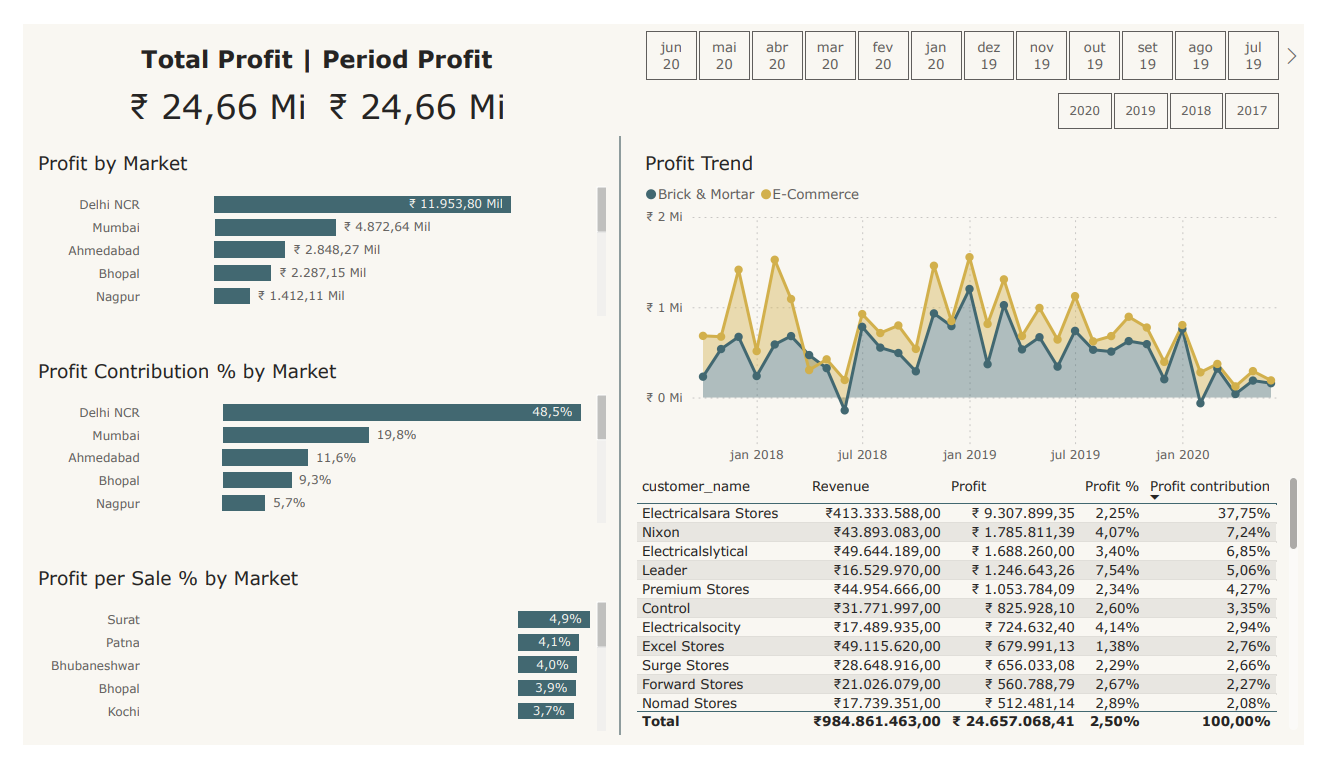

The page's visual inventory and layout, read from the dashboard file:
{"tool":"powerbi","page":{"name":"Profit","canvas":[1280,720],"ordinal":1},"visuals":[{"type":"card","fields":{"Values":["Medidas Base.Profit"]},"box":[294,55,199,55],"z":0,"group":"g1"},{"type":"slicer","fields":{"Values":["sales date.date.Variation.Hierarquia de datas.Ano"]},"box":[1008.6,62.2,271.4,49.6],"z":0},{"type":"shape","box":[587,111.7,20.4,599.4],"z":1000},{"type":"textbox","box":[95,15,398,45],"z":2000,"group":"g1"},{"type":"slicer","fields":{"Values":["sales date.cy_date"]},"box":[597,0,683,63],"z":2000},{"type":"barChart","title":"Profit Contribution % by Market","fields":{"Category":["sales markets.markets_name"],"Y":["Medidas Base.Profit contribution"]},"box":[0,319.5,587.5,183.8],"z":3000},{"type":"stackedAreaChart","title":"Profit Trend","fields":{"Category":["sales date.cy_date.Variation.Hierarquia de datas.Ano","sales date.cy_date.Variation.Hierarquia de datas.Trimestre","sales date.cy_date.Variation.Hierarquia de datas.Mês","sales date.cy_date.Variation.Hierarquia de datas.Dia"],"Y":["Medidas Base.Profit"],"Series":["sales customers.customer_type"]},"box":[606.9,111.9,673.1,336.5],"z":4000},{"type":"clusteredBarChart","title":"Profit by Market","fields":{"Category":["sales markets.markets_name"],"Y":["Medidas Base.Profit"]},"box":[0,111.9,587.5,183.8],"z":5000},{"type":"tableEx","fields":{"Values":["sales customers.custmer_name","Medidas Base.Revenue","Medidas Base.Profit","Medidas Base.Profit %","Medidas Base.Profit contribution"]},"box":[607.9,448.4,672.1,262.6],"z":6000},{"type":"barChart","title":"Profit per Sale % by Market","fields":{"Y":["Medidas Base.Profit %"],"Category":["sales markets.markets_name"]},"box":[0,527.2,587.5,183.8],"z":7000},{"type":"group","id":"g1","title":"Grupo 1","box":[95,15,398,95],"z":8000},{"type":"card","fields":{"Values":["Medidas Base.Profit"]},"box":[95,55,199,55],"z":8001,"group":"g1"}]}

Visuals, with their boxes in screenshot pixels (x1, y1, x2, y2), scaled from the page's 1280x720 canvas onto the 1327x767 screenshot:
card - Medidas Base.Profit: Rect(305, 59, 511, 117)
slicer - sales date.date.Variation.Hierarquia de datas.Ano: Rect(1046, 66, 1326, 119)
shape: Rect(609, 119, 630, 758)
textbox: Rect(98, 16, 511, 64)
slicer - sales date.cy_date: Rect(619, 0, 1326, 67)
"Profit Contribution % by Market" barChart: Rect(0, 340, 609, 536)
"Profit Trend" stackedAreaChart: Rect(629, 119, 1326, 478)
"Profit by Market" clusteredBarChart: Rect(0, 119, 609, 315)
tableEx - sales customers.custmer_name x Medidas Base.Revenue: Rect(630, 478, 1326, 757)
"Profit per Sale % by Market" barChart: Rect(0, 562, 609, 757)
"Grupo 1" group: Rect(98, 16, 511, 117)
card - Medidas Base.Profit: Rect(98, 59, 305, 117)
